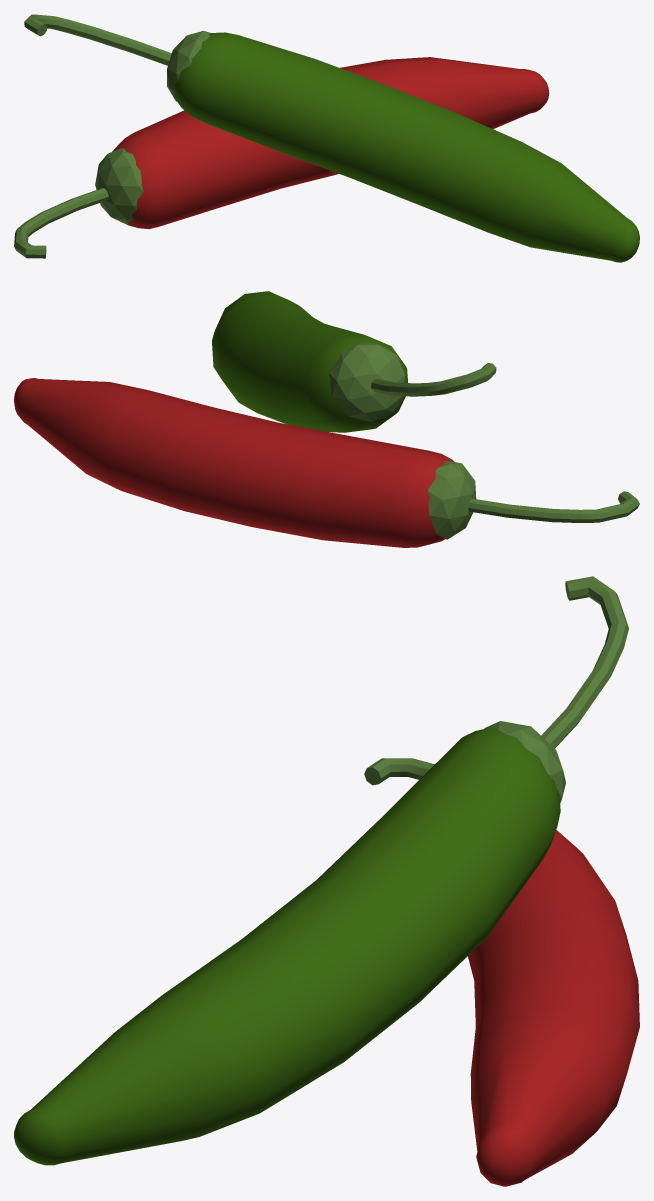
The model's file is e8e4756d-acec-4aa3-b75b-5030593937c4.glb.
The picture shows the model from 3 angles, top to bottom: view 1: azimuth 30°, elevation 25°; view 2: azimuth 150°, elevation 25°; view 3: azimuth 270°, elevation 25°; orthographic projection. The views are drawn at different scales.
Parts seen in each view (by area): view 1: Capsule002, Capsule001; view 2: Capsule001, Capsule002; view 3: Capsule002, Capsule001.
Part boxes in pixels (bbox=[...]): Capsule002: bbox=[24, 14, 639, 262]; Capsule001: bbox=[14, 57, 549, 258]; Capsule001: bbox=[14, 378, 639, 547]; Capsule002: bbox=[212, 291, 496, 432]; Capsule002: bbox=[14, 576, 628, 1165]; Capsule001: bbox=[364, 758, 639, 1186].
Size of the model in its own units: 79 by 28.54 by 52.12.
